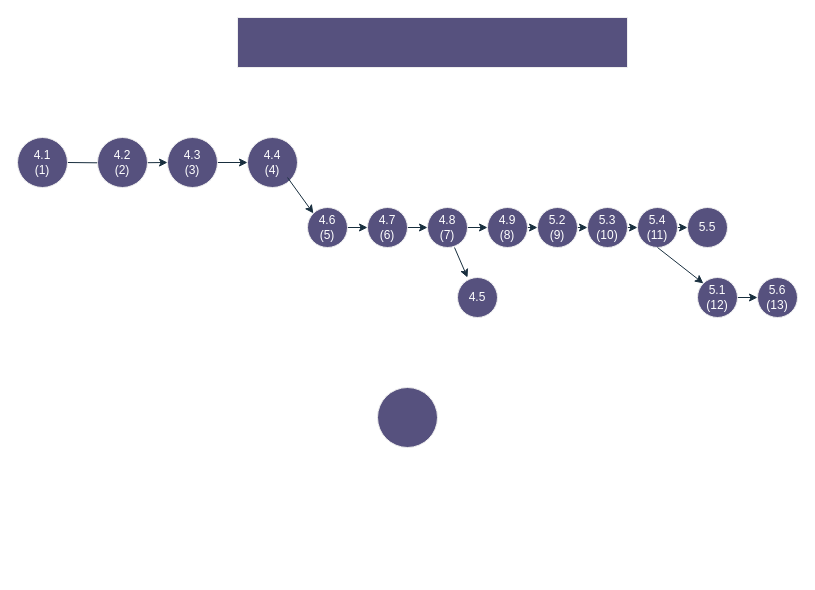
The diagram is 815 pixels wide and 590 high, and some of its shapes have lost their labels. Here are the shapes that lost their labels. From the top down, the centre of each, then its label:
the point at 432,42: TASARIM VE UYGULAMA AŞAMASI
the point at 407,417: 62.68 gün
